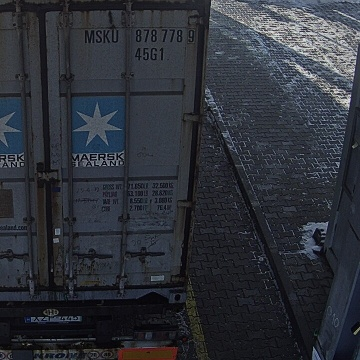serial_id: (84, 29, 194, 43)
